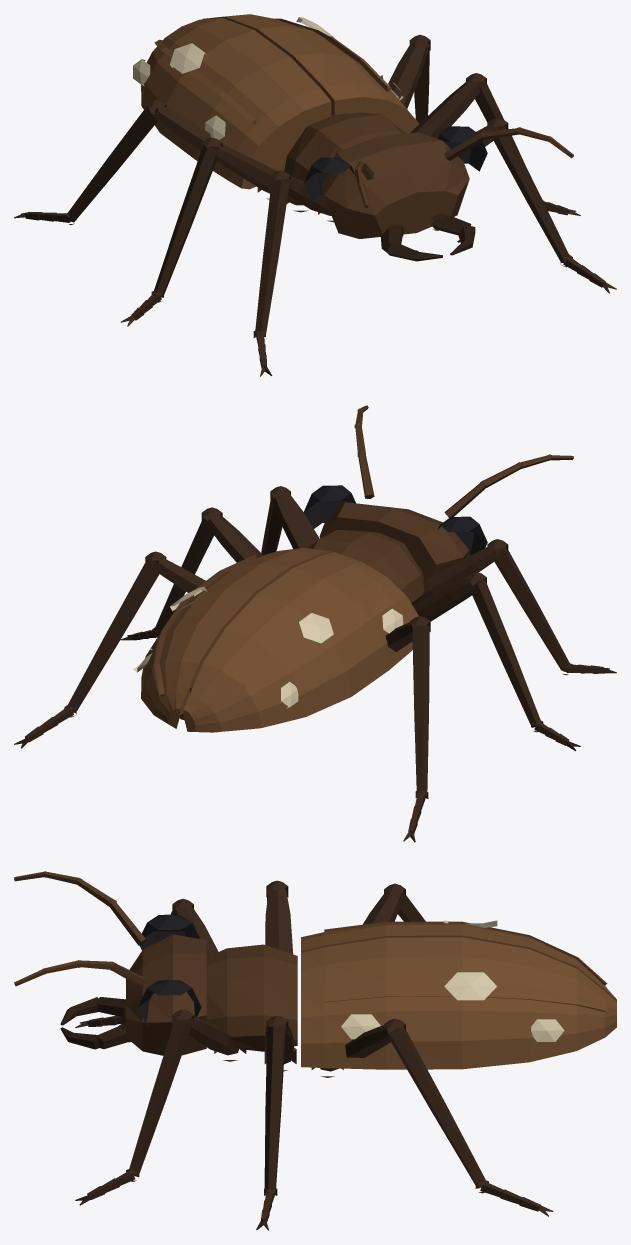
Rendered from standard_beetle.glb.
The picture shows the model from 3 angles, top to bottom: view 1: azimuth 30°, elevation 25°; view 2: azimuth 150°, elevation 25°; view 3: azimuth 270°, elevation 25°; orthographic projection. The views are drawn at different scales.
Visible parts, largest first — view 1: BeetlePlate_01, HeadBase001, BeetlePlate_00, ThoraxCore, Tibia001, Tibia003, Tibia000, Tibia005, Femur002, elytra_spot_01, Femur003, Femur004 (+7 smaller); view 2: BeetlePlate_01, BeetlePlate_00, HeadBase001, ThoraxCore, Tibia004, Tibia005, Tibia003, Tibia001, elytra_spot_01, Femur001, Femur000, Tibia002 (+6 smaller); view 3: BeetlePlate_00, ThoraxCore, HeadBase001, BeetlePlate_01, Tibia004, Tibia002, Tibia000, elytra_spot_00, Femur003, EyeRight001, Femur000, Femur004 (+5 smaller).
Part boxes in pixels (<box>): BeetlePlate_01: <box>141,17,331,189</box>; HeadBase001: <box>321,132,469,238</box>; BeetlePlate_00: <box>203,14,418,133</box>; ThoraxCore: <box>284,112,405,181</box>; Tibia001: <box>255,180,289,335</box>; Tibia003: <box>154,145,217,297</box>; Tibia000: <box>494,125,570,262</box>; Tibia005: <box>67,106,157,222</box>; Femur002: <box>410,80,480,138</box>; elytra_spot_01: <box>133,43,225,139</box>; Femur003: <box>210,144,303,205</box>; Femur004: <box>388,42,428,108</box>; BeetlePlate_01: <box>183,552,418,732</box>; BeetlePlate_00: <box>141,547,331,728</box>; HeadBase001: <box>319,502,468,581</box>; ThoraxCore: <box>308,529,424,604</box>; Tibia004: <box>68,558,159,713</box>; Tibia005: <box>412,625,429,796</box>; Tibia003: <box>471,579,541,727</box>; Tibia001: <box>494,546,570,671</box>; elytra_spot_01: <box>281,608,403,708</box>; Femur001: <box>417,546,499,602</box>; Femur000: <box>272,493,319,548</box>; Tibia002: <box>153,515,213,636</box>; BeetlePlate_00: <box>301,937,616,1069</box>; ThoraxCore: <box>206,944,297,1051</box>; HeadBase001: <box>126,934,206,1055</box>; BeetlePlate_01: <box>301,921,616,1001</box>; Tibia004: <box>389,1026,485,1188</box>; Tibia002: <box>264,1026,285,1193</box>; Tibia000: <box>128,1018,191,1176</box>; elytra_spot_00: <box>341,972,564,1041</box>; Femur003: <box>265,889,293,954</box>; EyeRight001: <box>139,914,199,950</box>; Femur000: <box>179,1016,238,1055</box>; Femur004: <box>320,1025,396,1071</box>.
Size of the model in its own units: 3.27 by 1.28 by 3.59.
